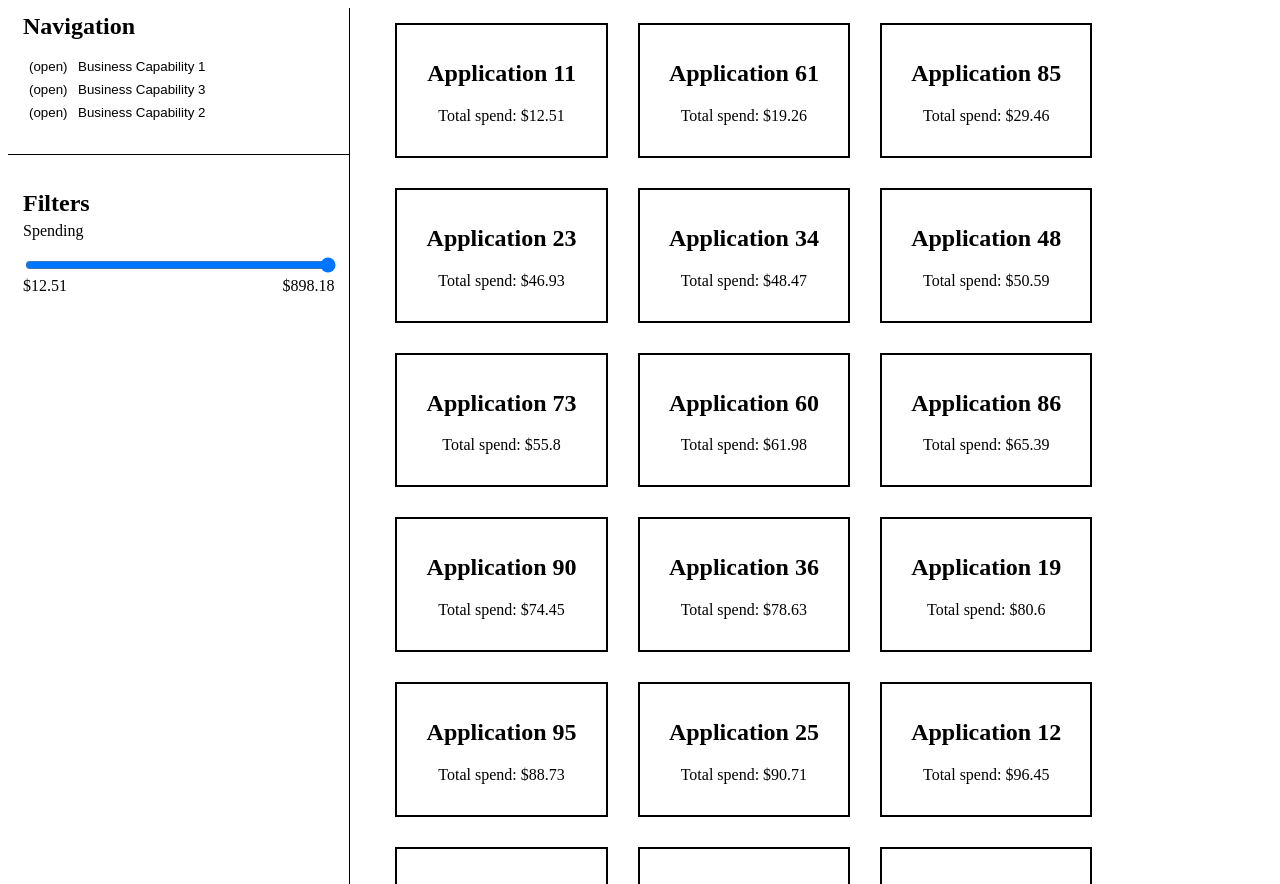
Test case: App › Navigation › should correctly open capabilities when clicking open
Expected: the heading "Navigation" is shown, x1=23 y1=13 x2=135 y2=39
Click the button with test id "open-Business Capability 1": (48, 66) x1=23 y1=58 x2=74 y2=75
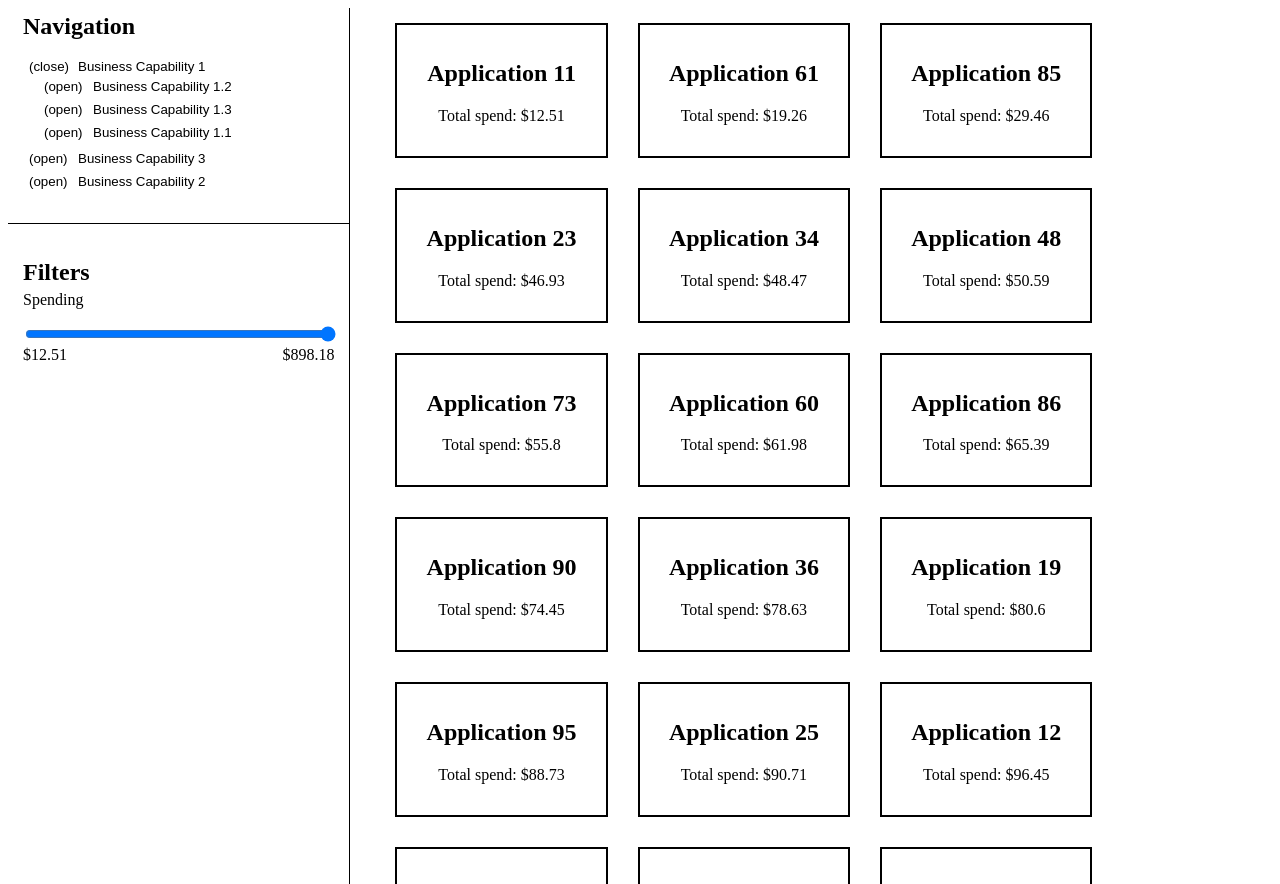
Expected: the button "Business Capability 1.1" is shown, x1=38 y1=124 x2=238 y2=141
Click the button with test id "open-Business Capability 1.1": (63, 132) x1=38 y1=124 x2=88 y2=141
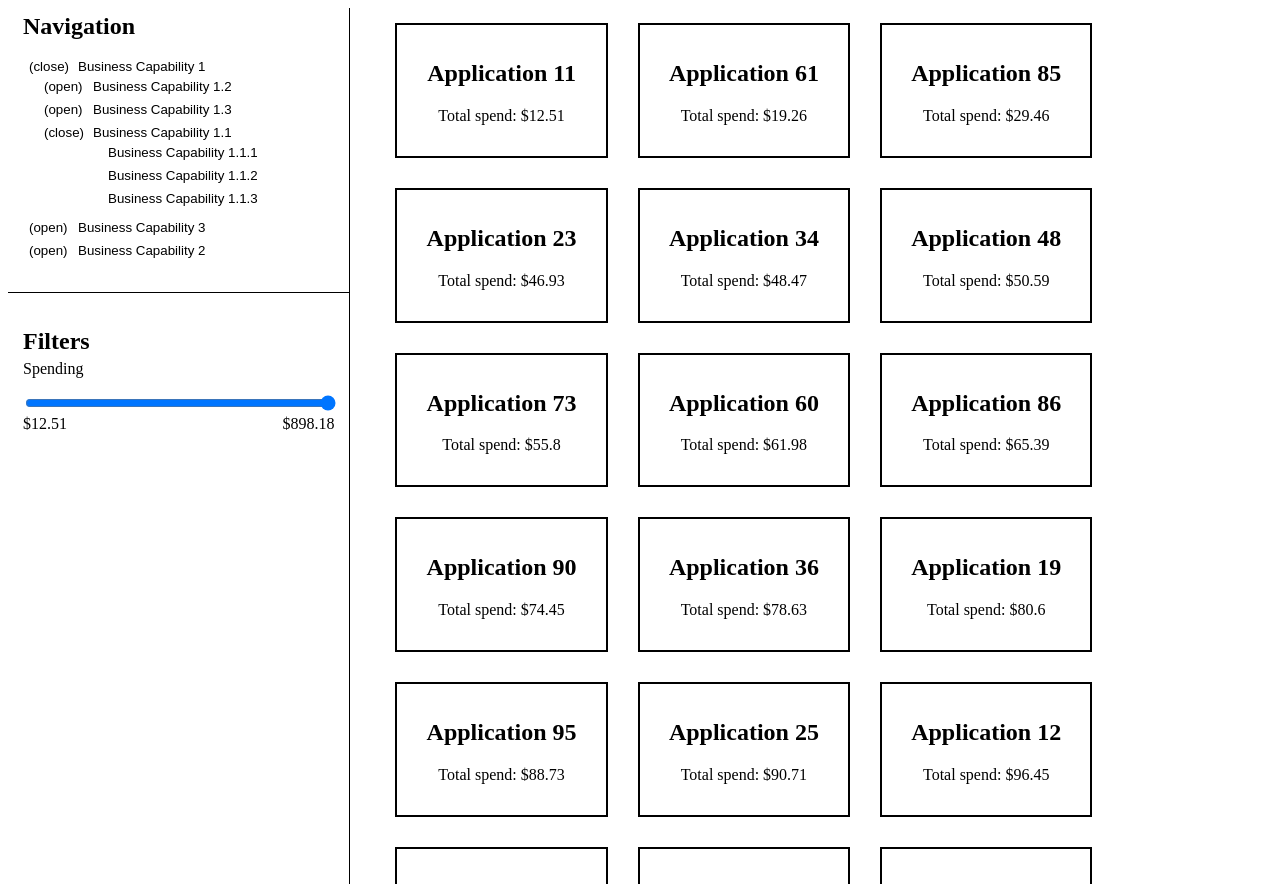
Expected: the button "Business Capability 1.1.1" is shown, x1=53 y1=144 x2=264 y2=161
